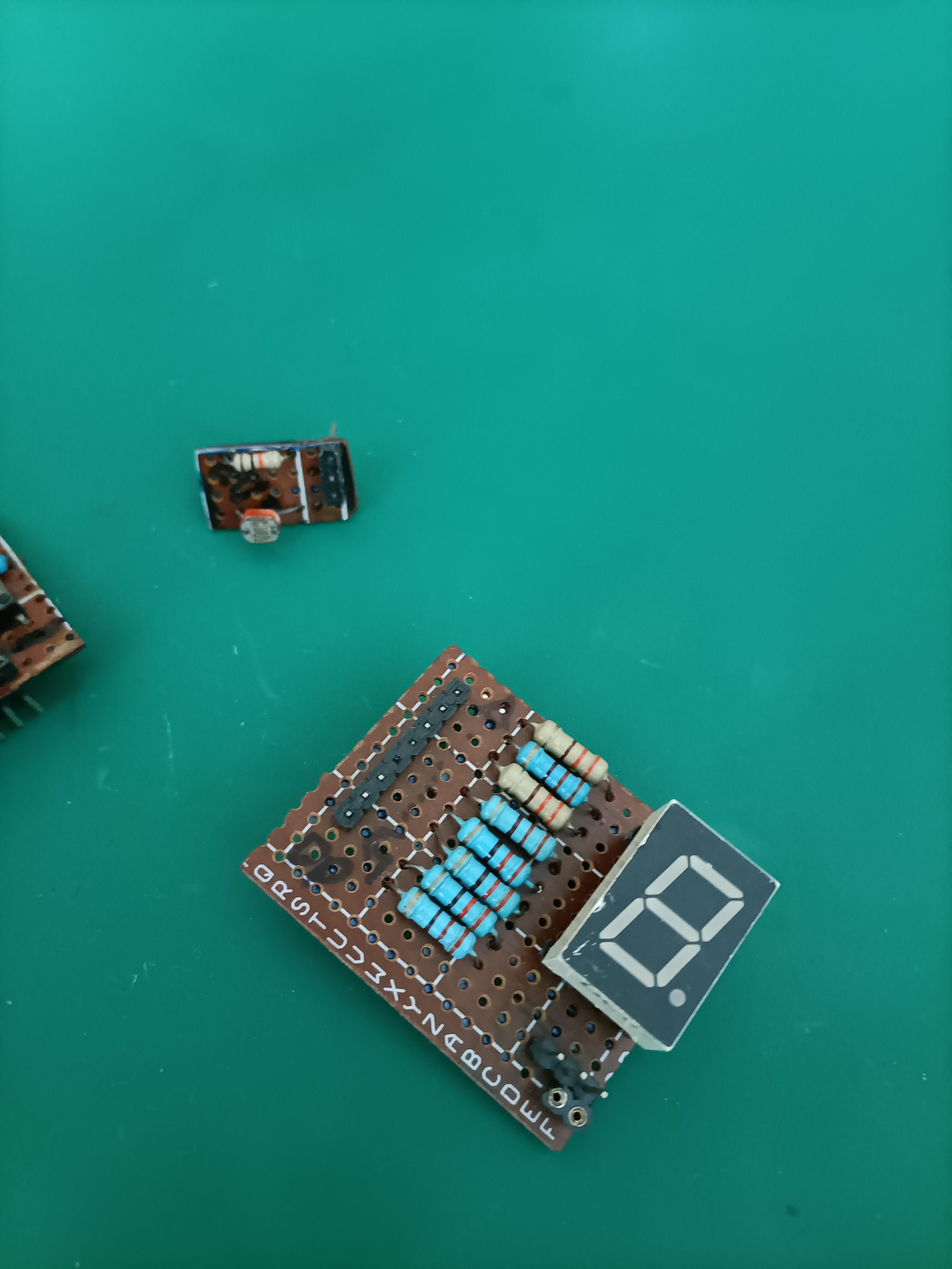Resistencia: (409, 886, 503, 917), (509, 758, 604, 788), (531, 735, 625, 765), (491, 791, 585, 821), (470, 814, 564, 844), (455, 840, 549, 870), (435, 861, 529, 891), (543, 713, 637, 743), (220, 453, 302, 472)
